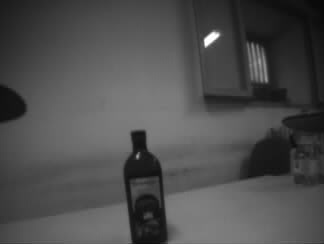Bottle: (123, 130, 169, 244)
